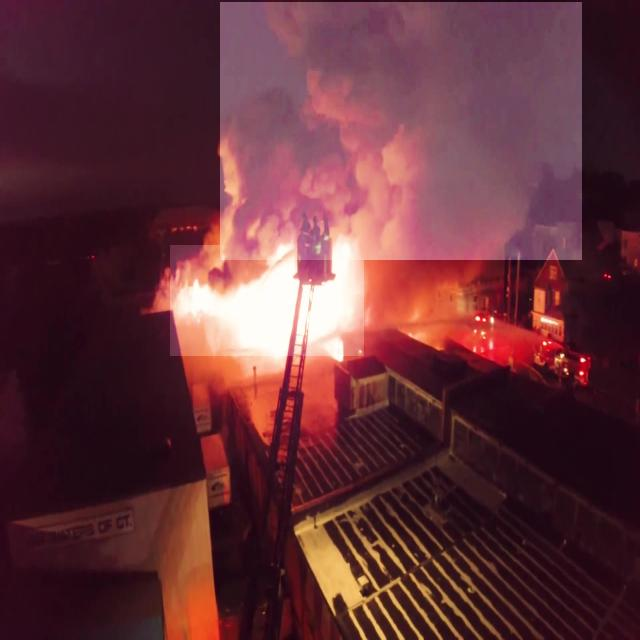Fire: (170, 245, 364, 356)
Smoke: (220, 2, 582, 260)
